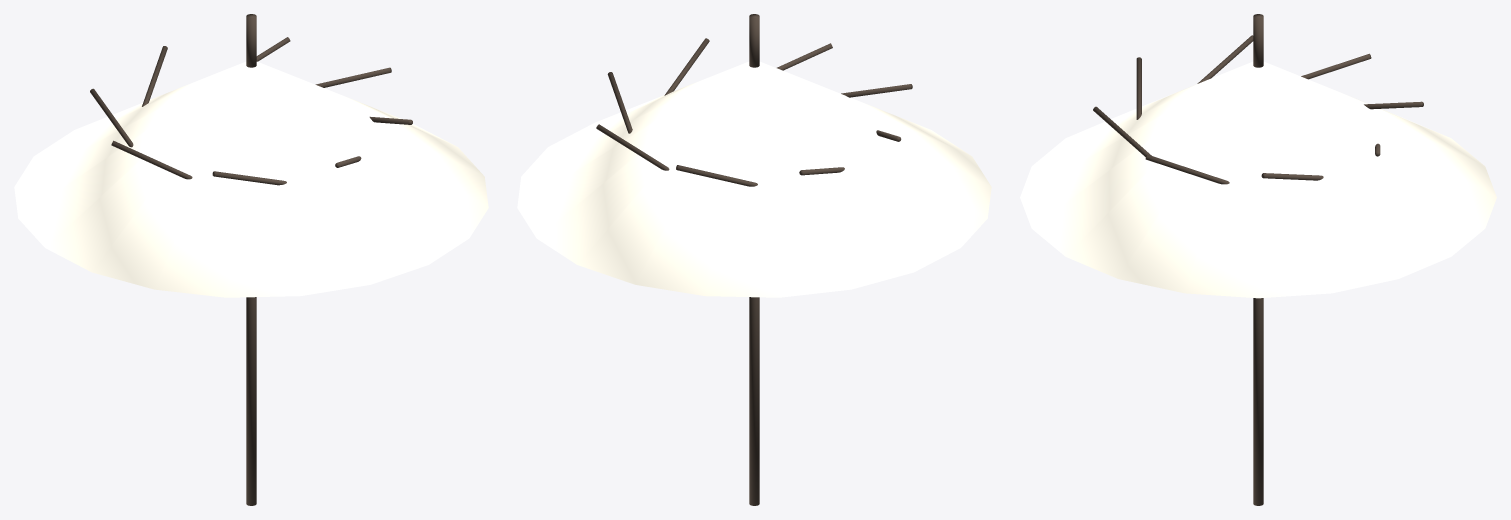
The model's file is prop_bangasa.glb.
The picture shows the model from 3 angles, left to right: view 1: azimuth 30°, elevation 25°; view 2: azimuth 150°, elevation 25°; view 3: azimuth 270°, elevation 25°; orthographic projection.
Parts seen in each view (by area): view 1: bangasa; view 2: bangasa; view 3: bangasa.
Part boxes in pixels (<box>): bangasa: <box>14,14,488,505</box>; bangasa: <box>517,14,991,505</box>; bangasa: <box>1020,14,1496,505</box>.
Bounding box in the file's own units: 1.8 × 2.03 × 1.8.
